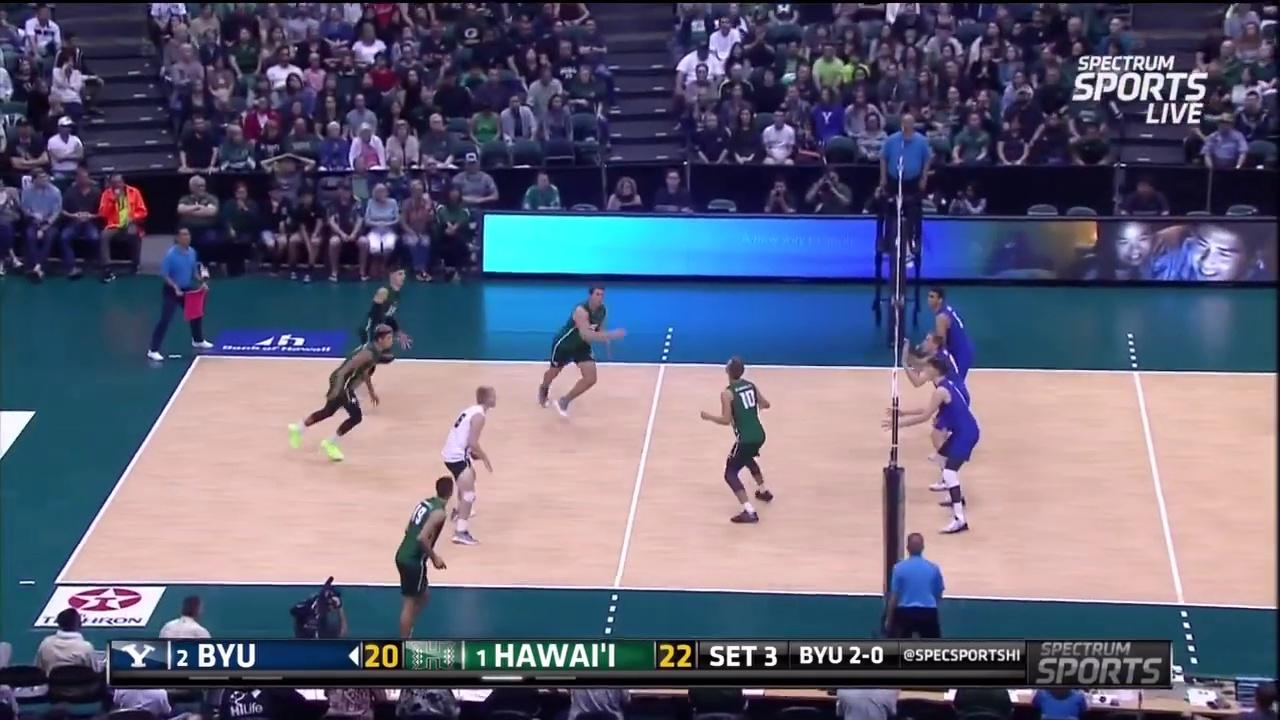player: (296, 326, 394, 469), (911, 358, 982, 539), (702, 358, 780, 520), (534, 286, 623, 409), (395, 480, 459, 638), (437, 390, 497, 549), (919, 330, 973, 506), (927, 285, 976, 459), (360, 262, 415, 387)
refree: (876, 105, 934, 248), (148, 227, 208, 358), (881, 529, 949, 641)
